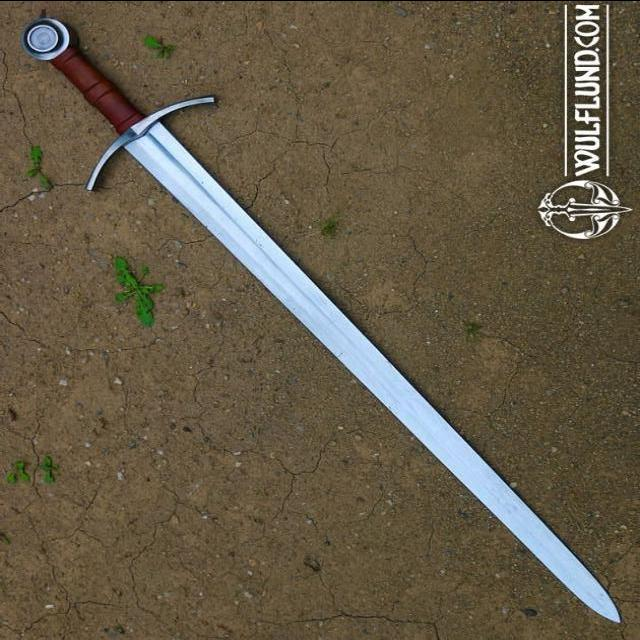sword: (21, 17, 624, 625)
